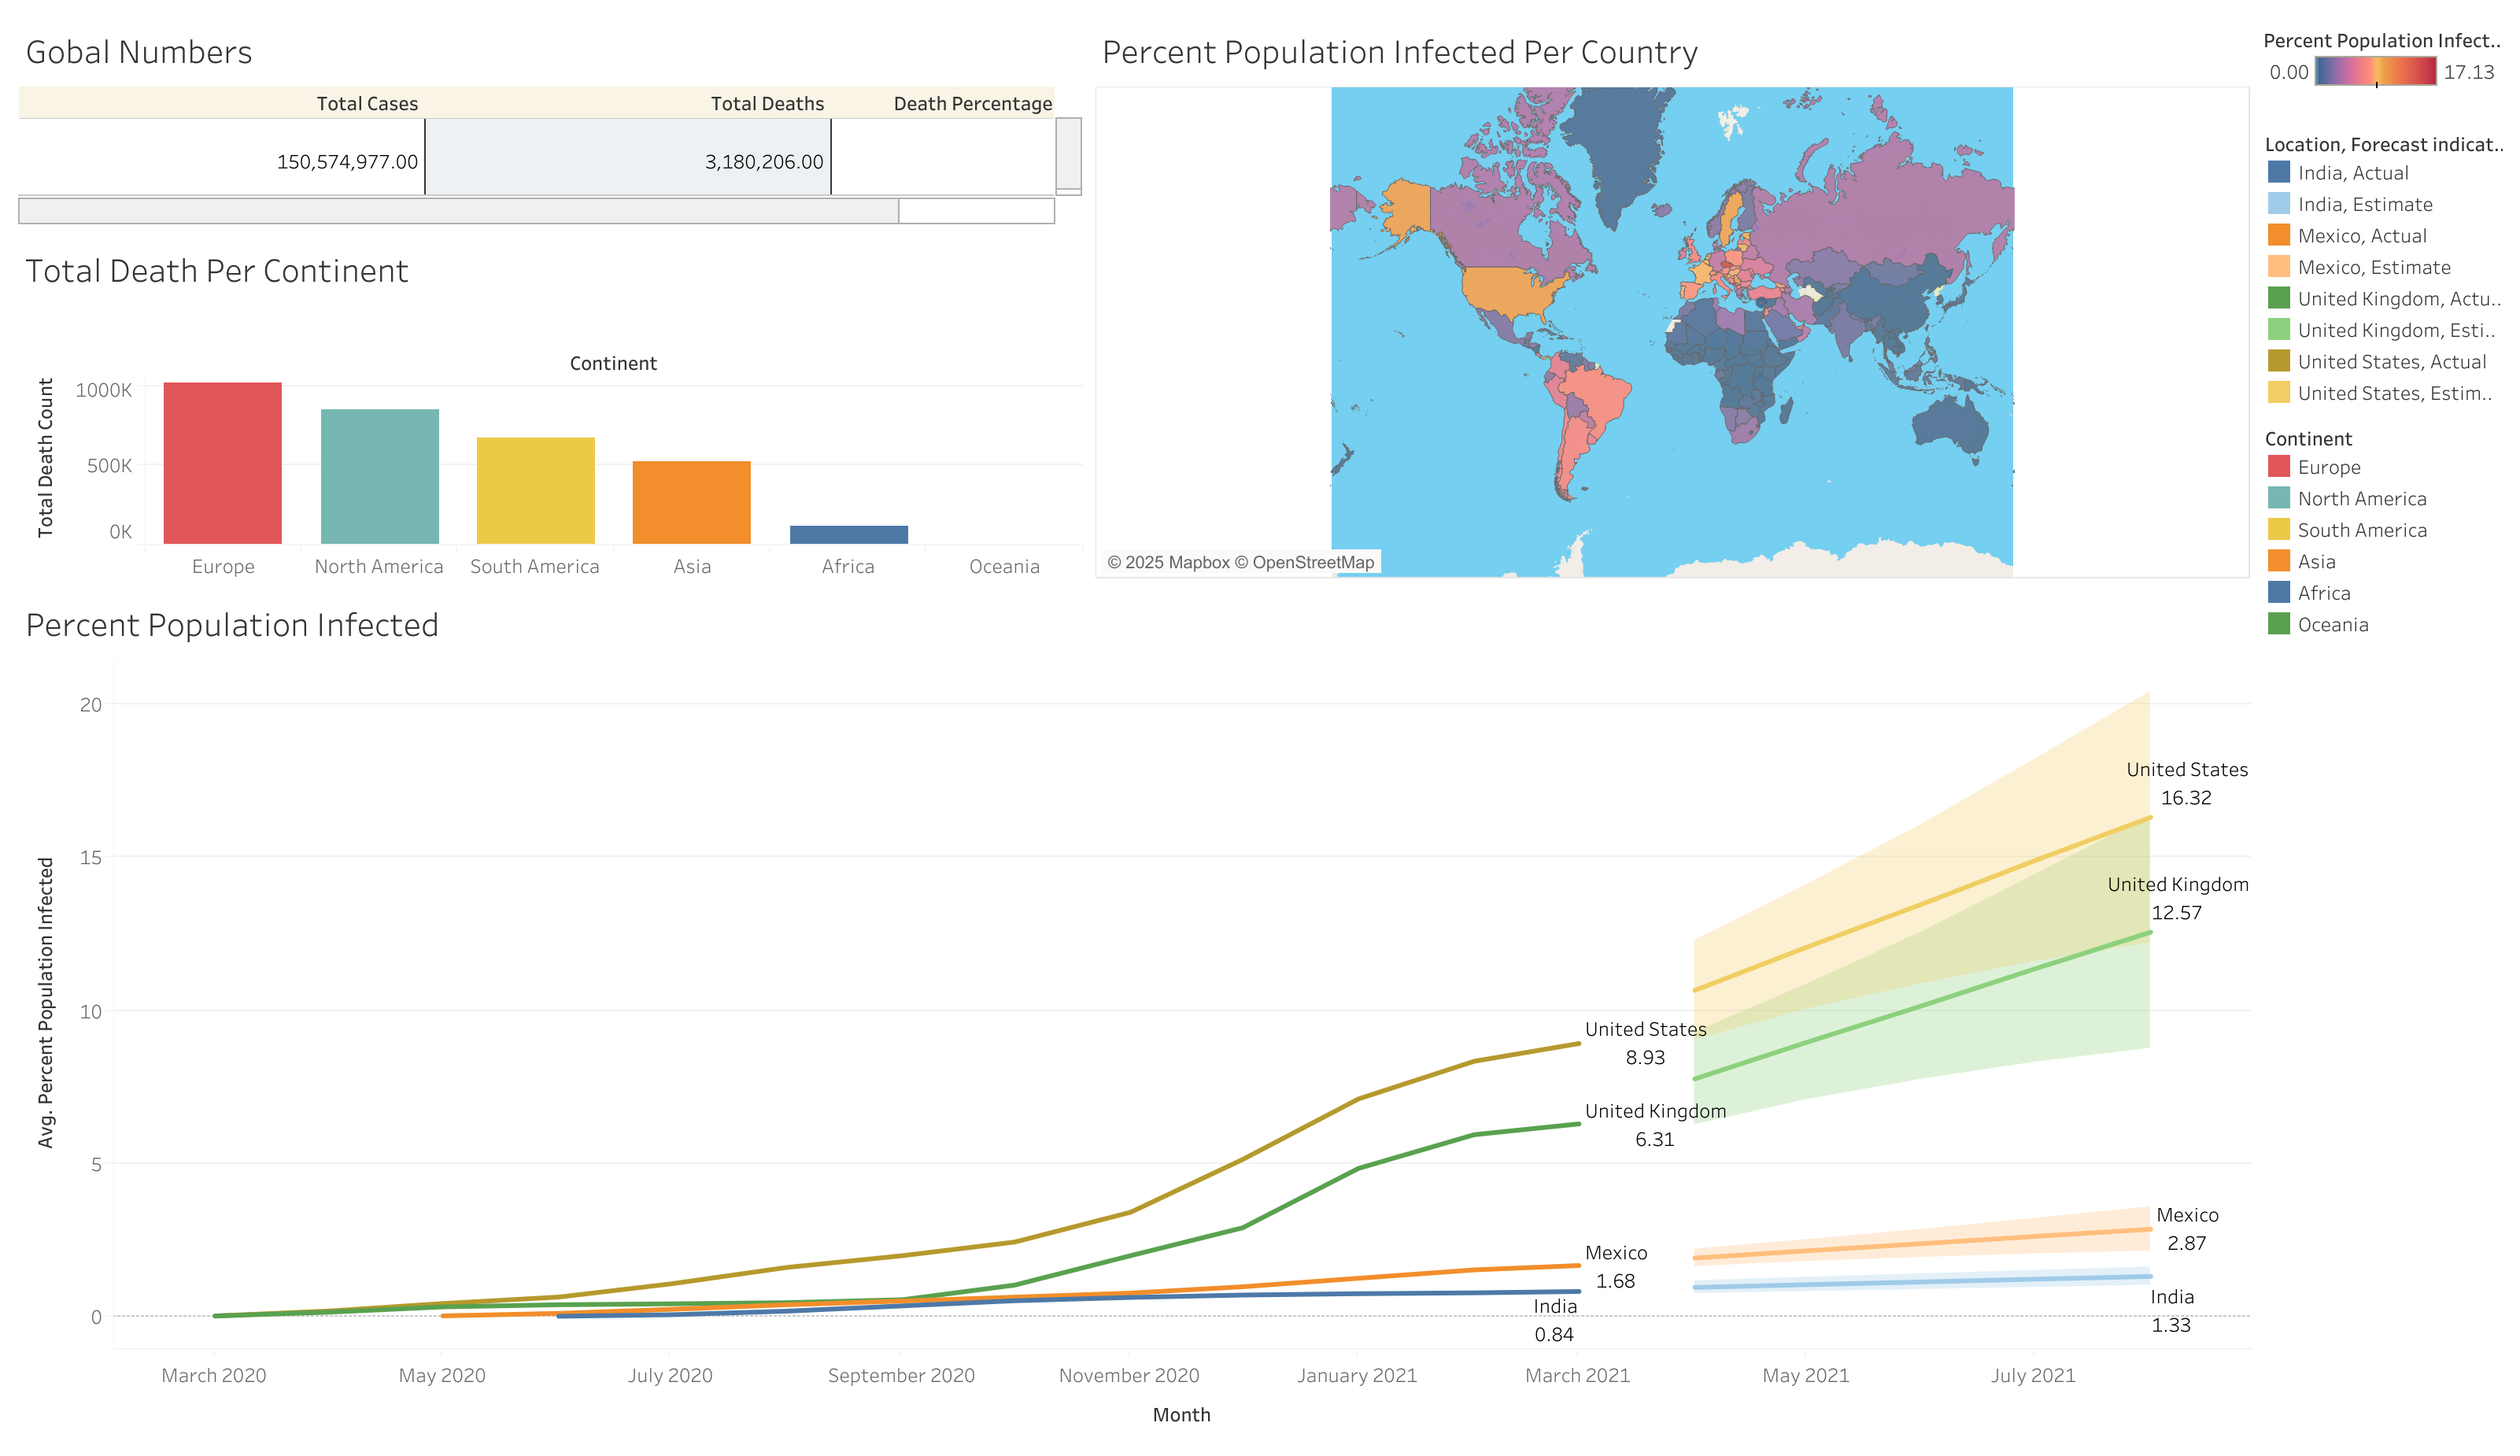

This screenshot's page, from the dashboard's own definition file:
{"tool":"tableau","page":{"name":"Dashboard 1","canvas":[1000,1000],"units":"permille","ordinal":0},"visuals":[{"type":"worksheet","title":"Sheet 1","mark":"Automatic","box":[4.3,8.6,434.4,150]},{"type":"worksheet","title":"Sheet 3","mark":"Automatic","box":[438.7,8.6,470.9,392.9]},{"type":"legend","title":"Sheet 3","param":"[federated.0a240eh0dadjj51f0xdzm0fmi9uk].[sum:PercentPopulationInfected:qk]","box":[909.6,8.6,86.1,73.4]},{"type":"legend","title":"Sheet 4","param":"[federated.1nfqekp0ydoaqv10jxq5w0oppozx].[none:Location:nk]\n[federated.1nfqekp0y","box":[909.6,82,86.1,201.7]},{"type":"worksheet","title":"Sheet 2","mark":"Automatic","rows":["TotalDeathCount"],"cols":["location"],"box":[4.3,158.6,434.4,242.9]},{"type":"legend","title":"Sheet 2","param":"[federated.1y2s9cr10zijqc14bg0sa0evz0zd].[none:location:nk]","box":[909.6,283.7,86.1,158.6]},{"type":"worksheet","title":"Sheet 4","mark":"Automatic","rows":["PercentPopulationInfected"],"cols":["Date"],"box":[4.3,401.5,905.3,589.9]}]}

Visuals, with their boxes on the dashboard's canvas, which has no fixed pixel size, in thousandths of its width and height (x1, y1, x2, y2). These are canvas units, not pixel positions in the 2520x1456 screenshot, which may show the page scaled, cropped or inside an application window:
"Sheet 1" worksheet: <region>4, 9, 439, 159</region>
"Sheet 3" worksheet: <region>439, 9, 910, 402</region>
"Sheet 3" legend: <region>910, 9, 996, 82</region>
"Sheet 4" legend: <region>910, 82, 996, 284</region>
"Sheet 2" worksheet: <region>4, 159, 439, 402</region>
"Sheet 2" legend: <region>910, 284, 996, 442</region>
"Sheet 4" worksheet: <region>4, 402, 910, 991</region>
